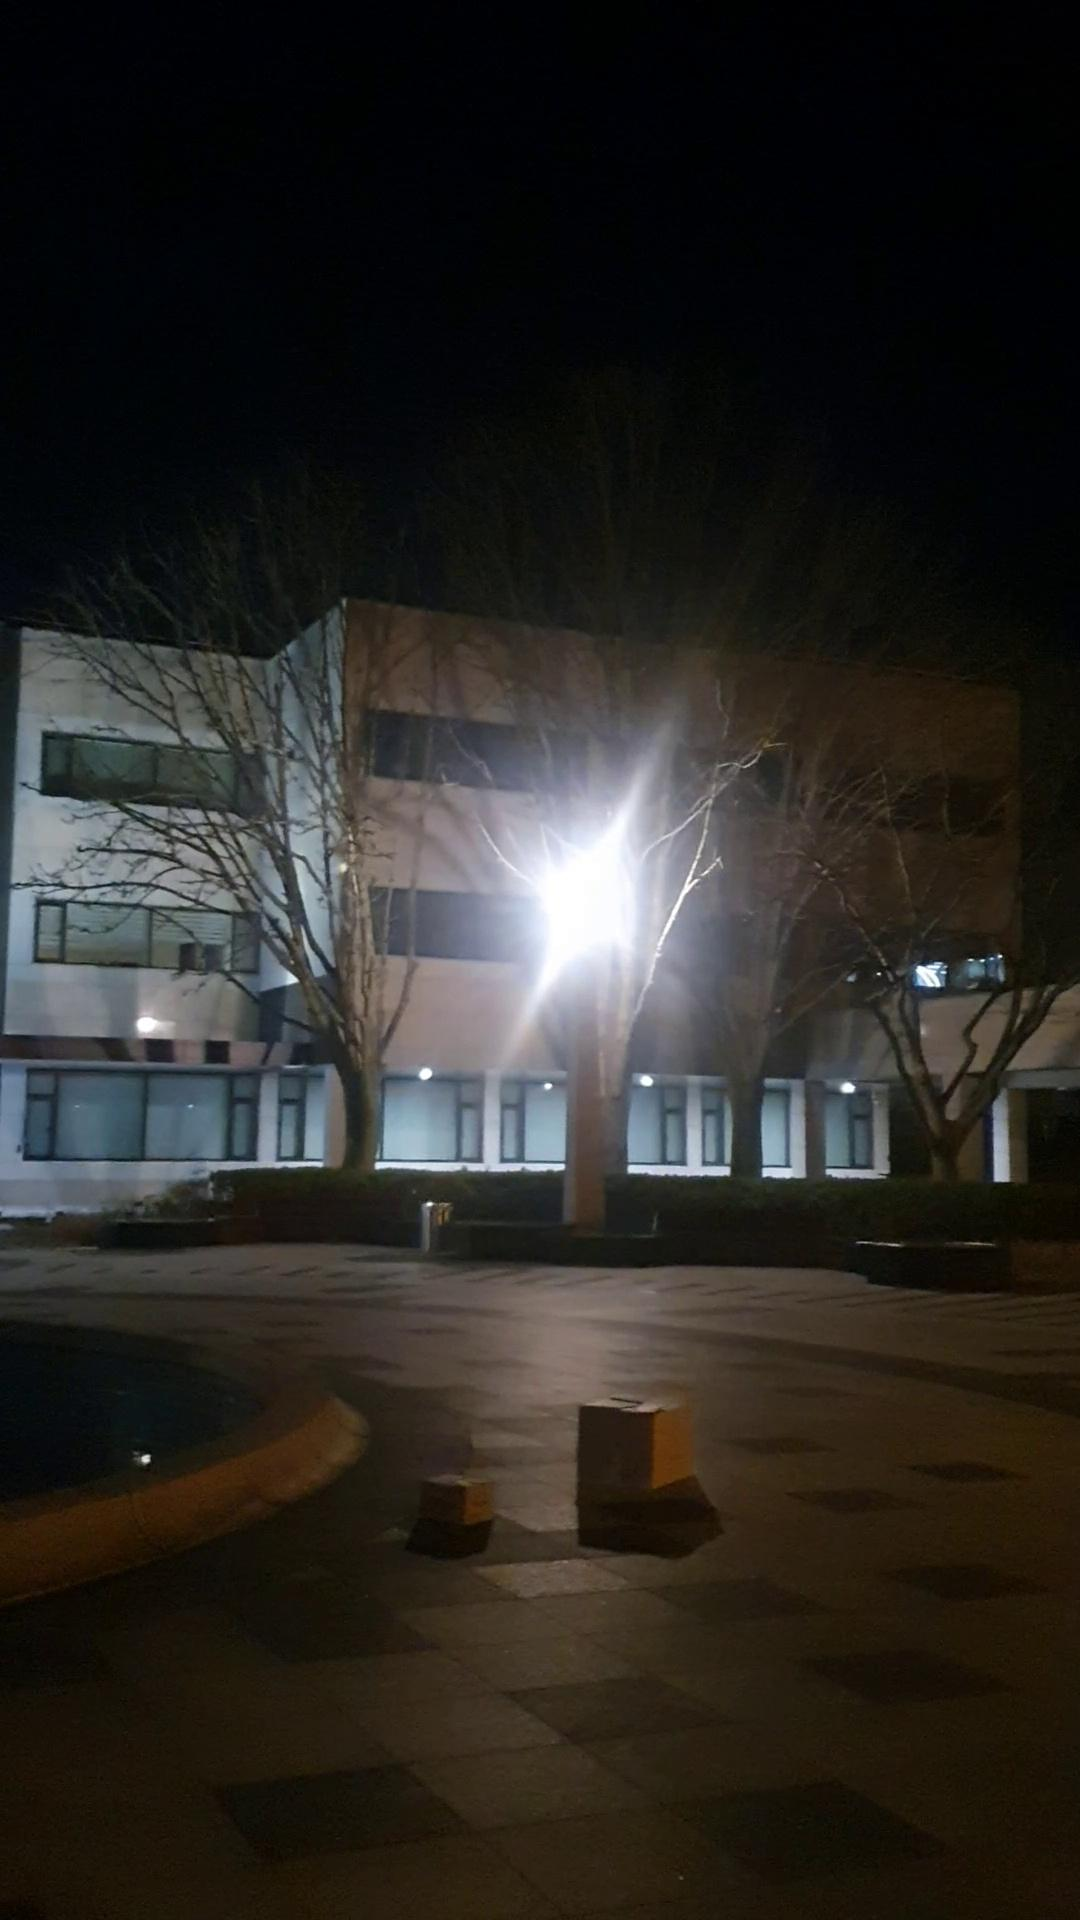Box: (560, 1390, 712, 1520), (406, 1455, 510, 1540)
